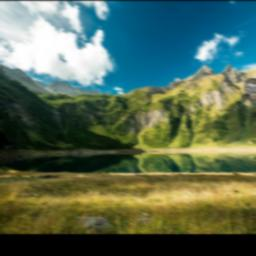Woodpecker: (244, 79, 256, 111)
